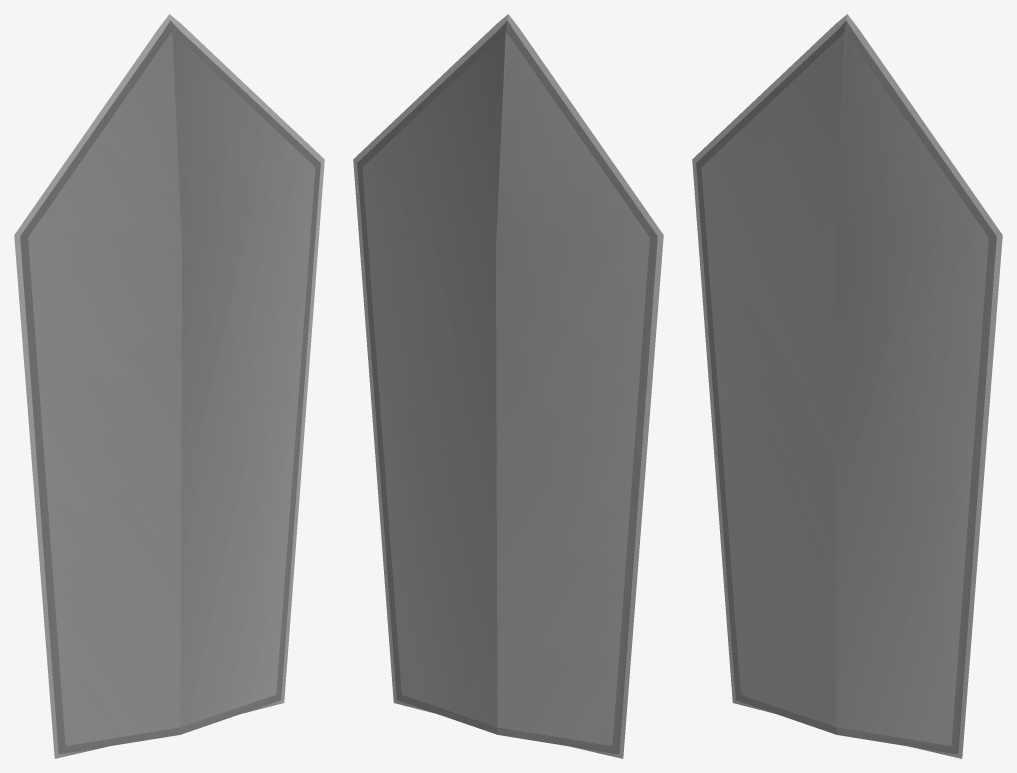
File: stone_blade (2).glb
3 views of the same model, side by side, from view 1: azimuth 30°, elevation 25°; view 2: azimuth 150°, elevation 25°; view 3: azimuth 330°, elevation 25° (orthographic).
Parts seen in each view (by area): view 1: stone_blade_unscratched.022; view 2: stone_blade_unscratched.022; view 3: stone_blade_unscratched.022.
Boxes of the visible parts, bbox=[...] form: stone_blade_unscratched.022: bbox=[14, 14, 324, 758]; stone_blade_unscratched.022: bbox=[353, 14, 663, 758]; stone_blade_unscratched.022: bbox=[692, 14, 1002, 758].
Size of the model in its own units: 5.17 by 11.43 by 0.7262.
Materials: 1 (1 with a texture image).
